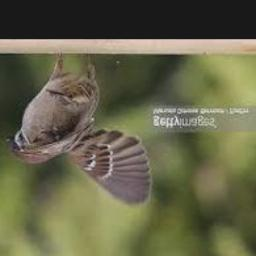Sparrow: (1, 53, 151, 208)
